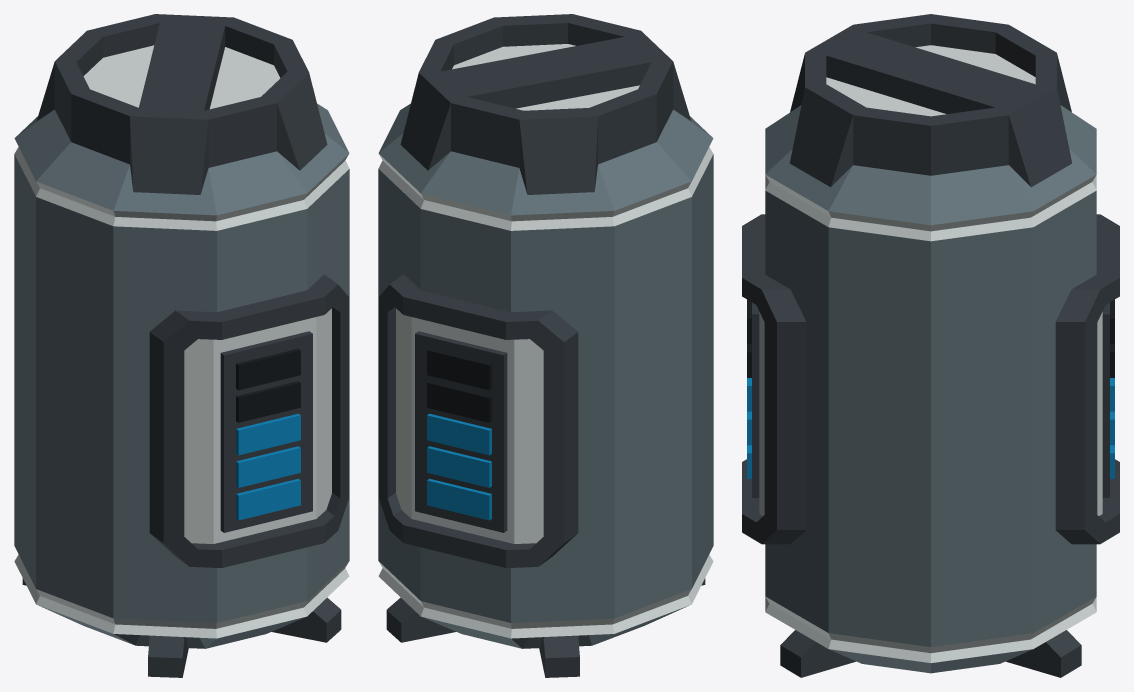
File: prop14.FBX
The picture shows the model from 3 angles, left to right: view 1: azimuth 30°, elevation 25°; view 2: azimuth 150°, elevation 25°; view 3: azimuth 270°, elevation 25°; orthographic projection. The views are drawn at different scales.
Visible parts, largest first — view 1: prop14; view 2: prop14; view 3: prop14.
Boxes of the visible parts, x1,y1,x2,y2 form: prop14: [14, 14, 349, 677]; prop14: [378, 14, 713, 677]; prop14: [742, 14, 1119, 677].
Size of the model in its own units: 5.06 by 8.95 by 5.48.
